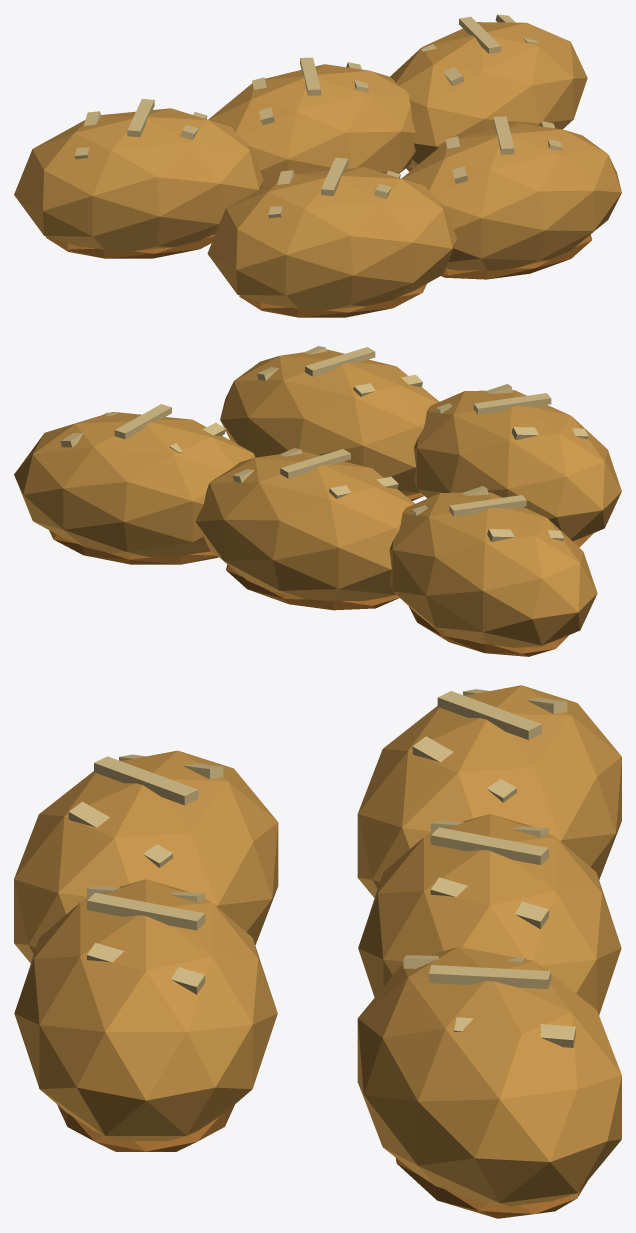
File: pile-bread-5.gltf
The picture shows the model from 3 angles, top to bottom: view 1: azimuth 30°, elevation 25°; view 2: azimuth 150°, elevation 25°; view 3: azimuth 270°, elevation 25°; orthographic projection. The views are drawn at different scales.
Parts seen in each view (by area): view 1: pile-bread-5; view 2: pile-bread-5; view 3: pile-bread-5.
Part boxes in pixels (bbox=[...]): pile-bread-5: bbox=[14, 14, 621, 317]; pile-bread-5: bbox=[14, 346, 621, 656]; pile-bread-5: bbox=[14, 685, 621, 1218].
Bounding box in the file's own units: 0.8843 × 0.2025 × 0.5306.
